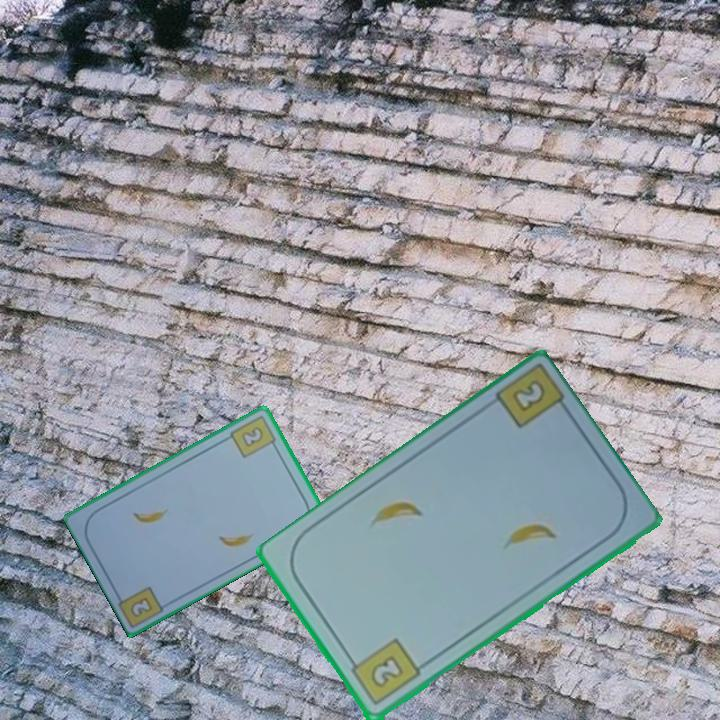2b: (345, 635, 423, 709), (226, 412, 281, 461), (512, 379, 545, 412), (127, 593, 156, 620)
